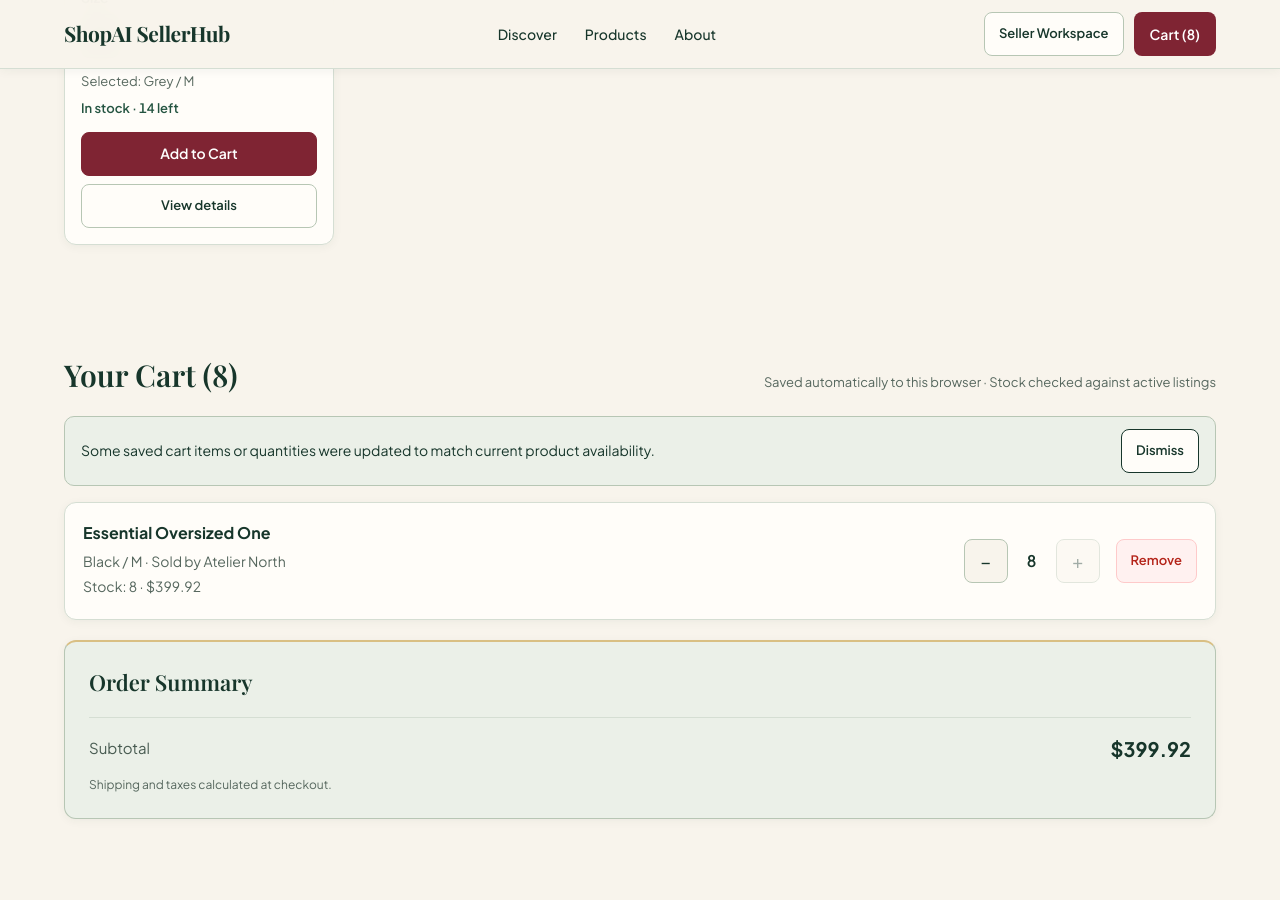
Scenario: Cart localStorage persistence › displays a dismissible hydration notice when stale or over-stock items are reconciled
(page scrolled)
Expected: the text "saved cart items or quantities were updated" is shown, [81,441,655,459]
Click the button with aria-label "dismiss cart notice".
click(1160, 451)  # box [1121,429,1199,473]
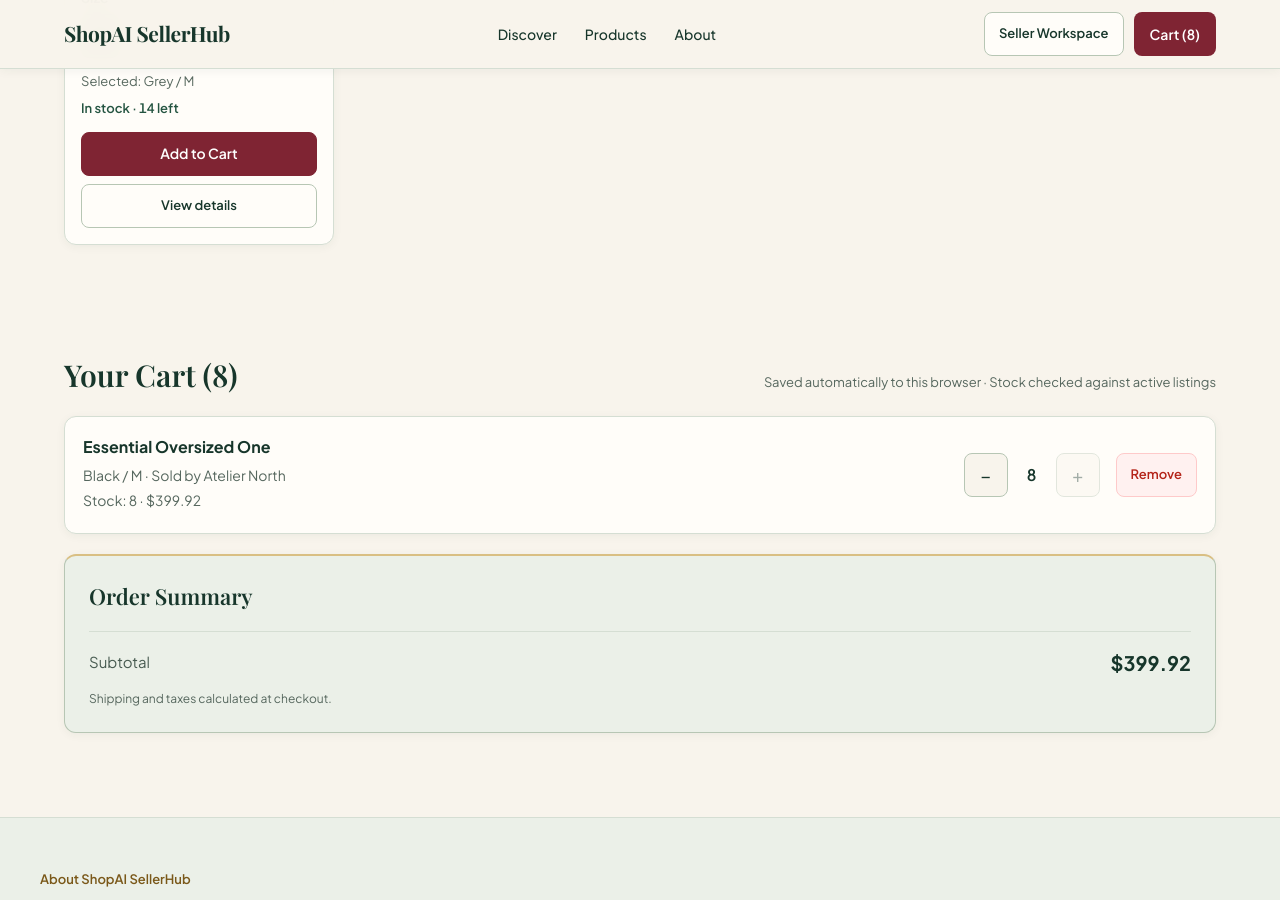
Expected: the text "saved cart items or quantities were updated" is gone
